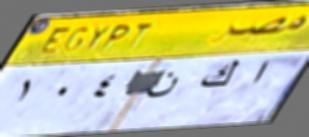0: (54, 82, 72, 102)
1: (14, 76, 36, 105)
4: (92, 70, 117, 101)
alif: (251, 58, 272, 86)
kaaf: (197, 55, 242, 90)
noon: (146, 71, 180, 106)
